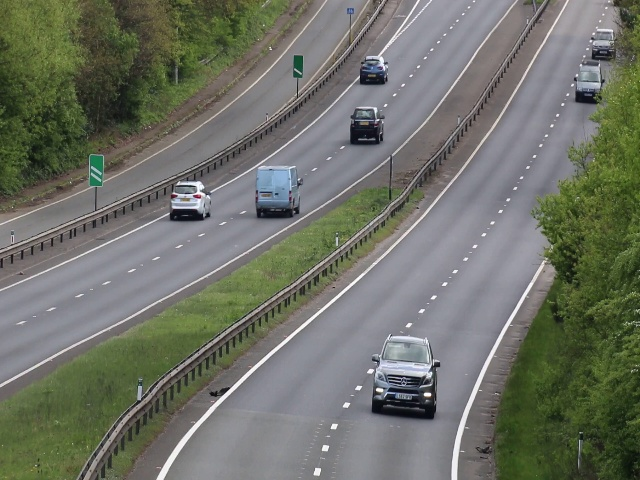car: (370, 333, 440, 420), (252, 163, 304, 215), (168, 177, 213, 226), (349, 104, 386, 144), (574, 61, 606, 105), (358, 53, 390, 88), (588, 27, 619, 61)
